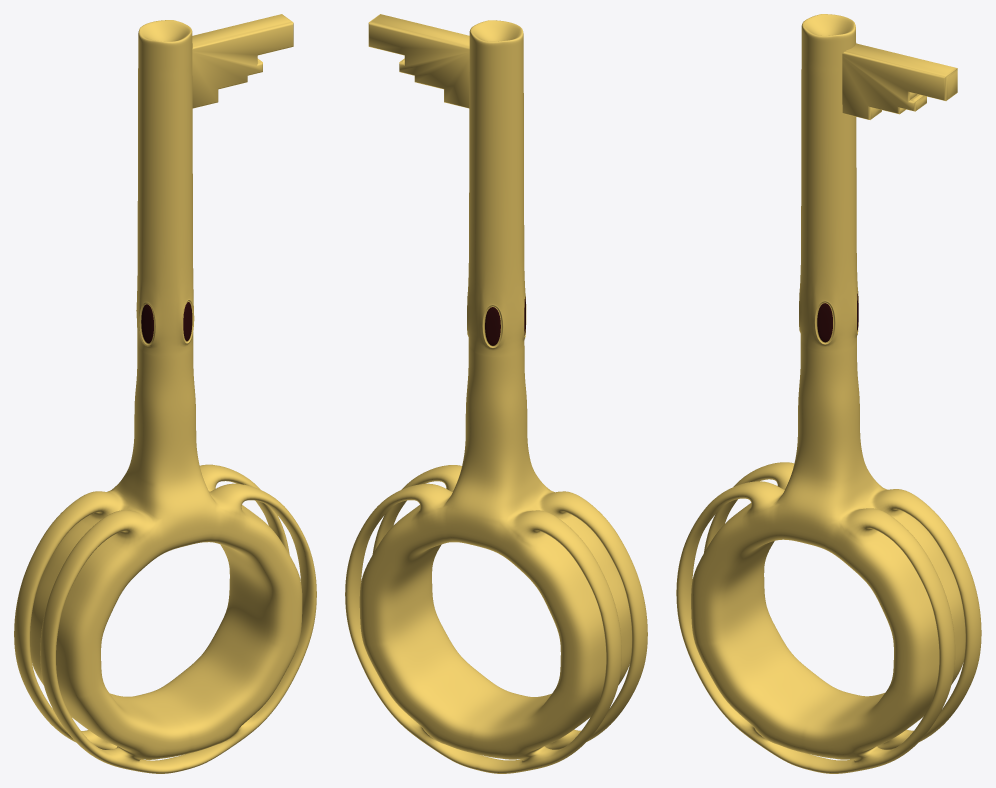
The model's file is gold_key.obj.
3 views of the same model, side by side, from view 1: azimuth 30°, elevation 25°; view 2: azimuth 150°, elevation 25°; view 3: azimuth 330°, elevation 25° (orthographic).
Parts seen in each view (by area): view 1: Object__0; view 2: Object__0; view 3: Object__0.
Boxes of the visible parts, x1,y1,x2,y2 form: Object__0: (14,14,316,773); Object__0: (345,14,647,773); Object__0: (676,14,981,773).
Bounding box in the file's own units: 0.0586 × 0.1508 × 0.0194.
